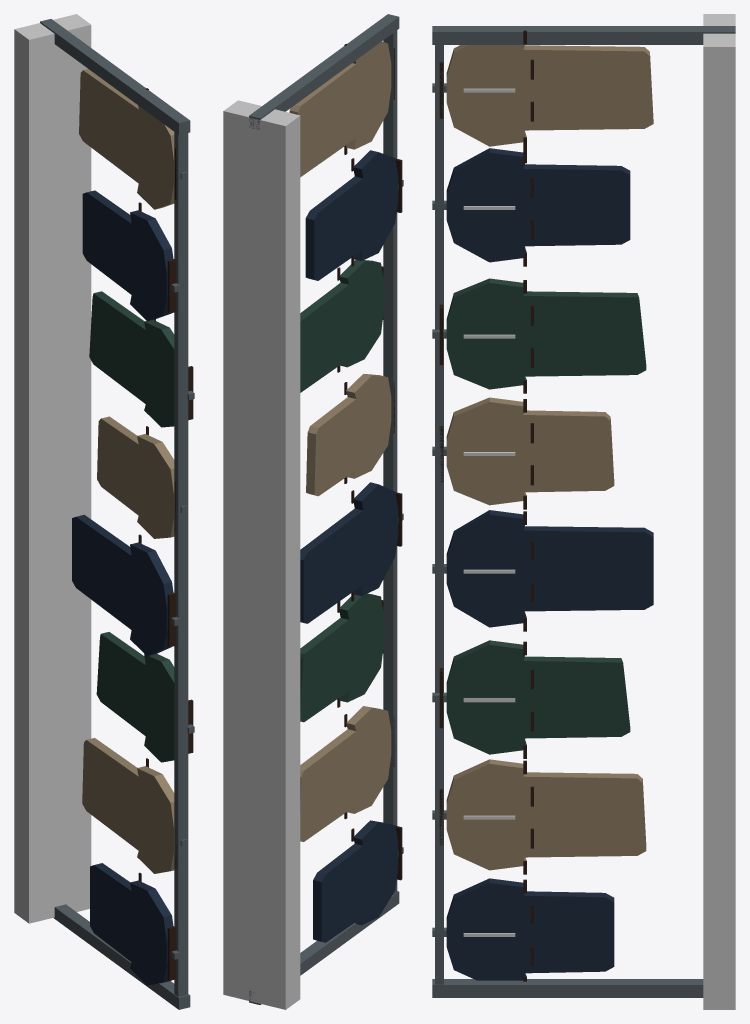
Rendered from SM_BSW_StockWing_Long_A.obj.
3 renders of one model, left to right at view 1: azimuth 30°, elevation 25°; view 2: azimuth 150°, elevation 25°; view 3: azimuth 270°, elevation 25°, orthographic. The views are drawn at different scales.
Parts seen in each view (by area): view 1: SM_BSW_StockWing_Long_A; view 2: SM_BSW_StockWing_Long_A; view 3: SM_BSW_StockWing_Long_A.
Boxes of the visible parts, x1,y1,x2,y2 form: SM_BSW_StockWing_Long_A: (14,14,194,1009); SM_BSW_StockWing_Long_A: (223,14,403,1009); SM_BSW_StockWing_Long_A: (432,14,735,1009).
Bounding box in the file's own units: 44 × 598 × 170.
